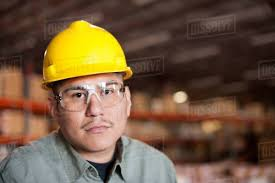Person_wearing_helmet: (35, 11, 135, 111)
